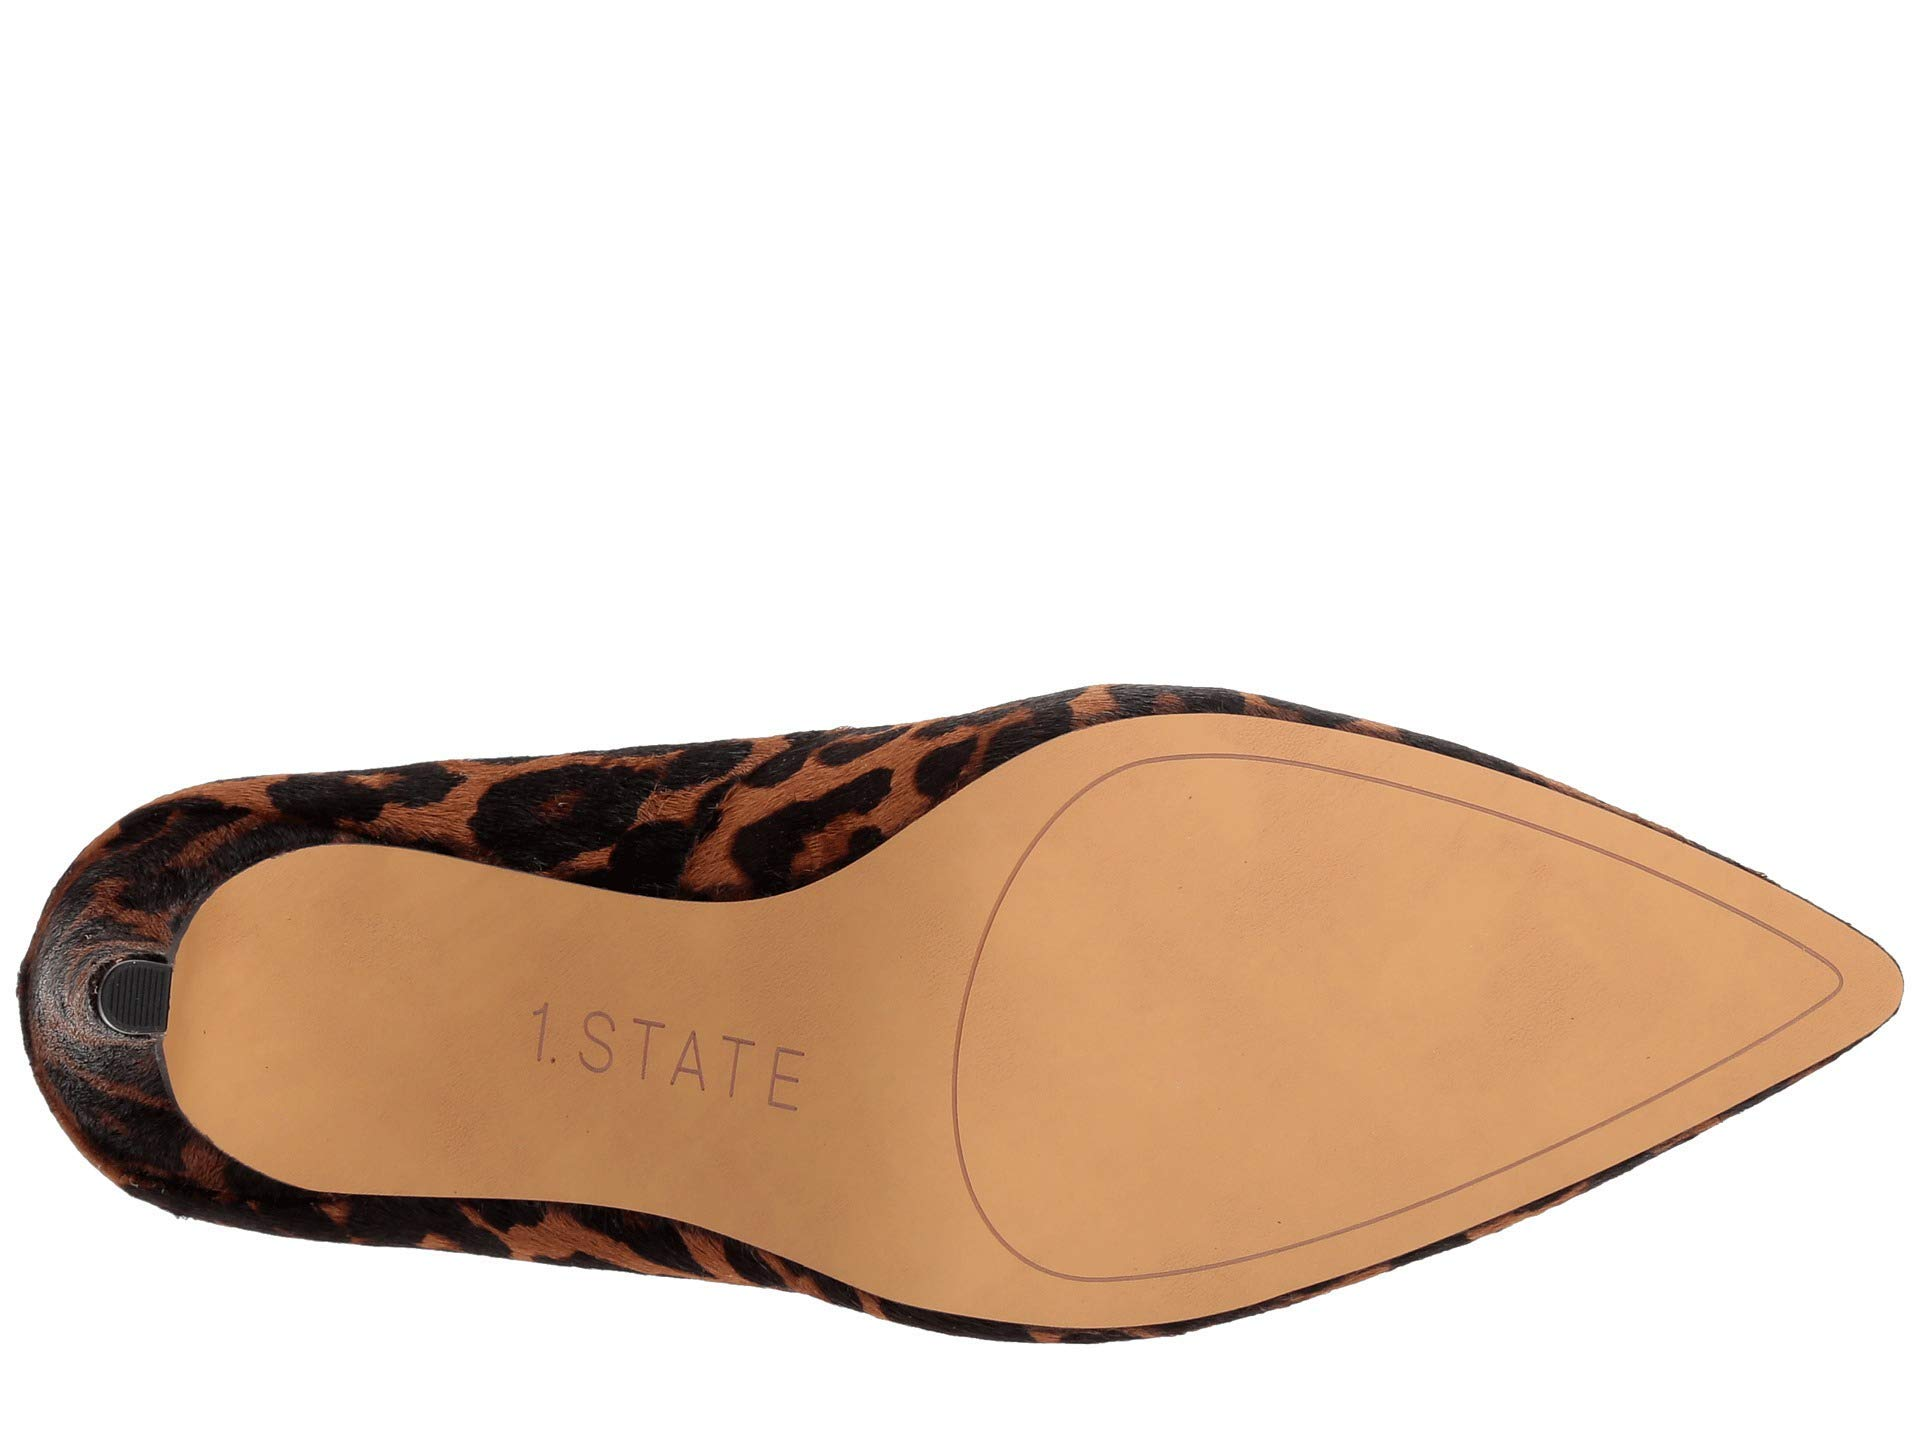circle: (1014, 747, 1560, 926), (98, 948, 175, 1039)
exclude: (206, 781, 925, 1311)
line: (98, 948, 175, 1039)
other: (1134, 839, 1436, 1142)
